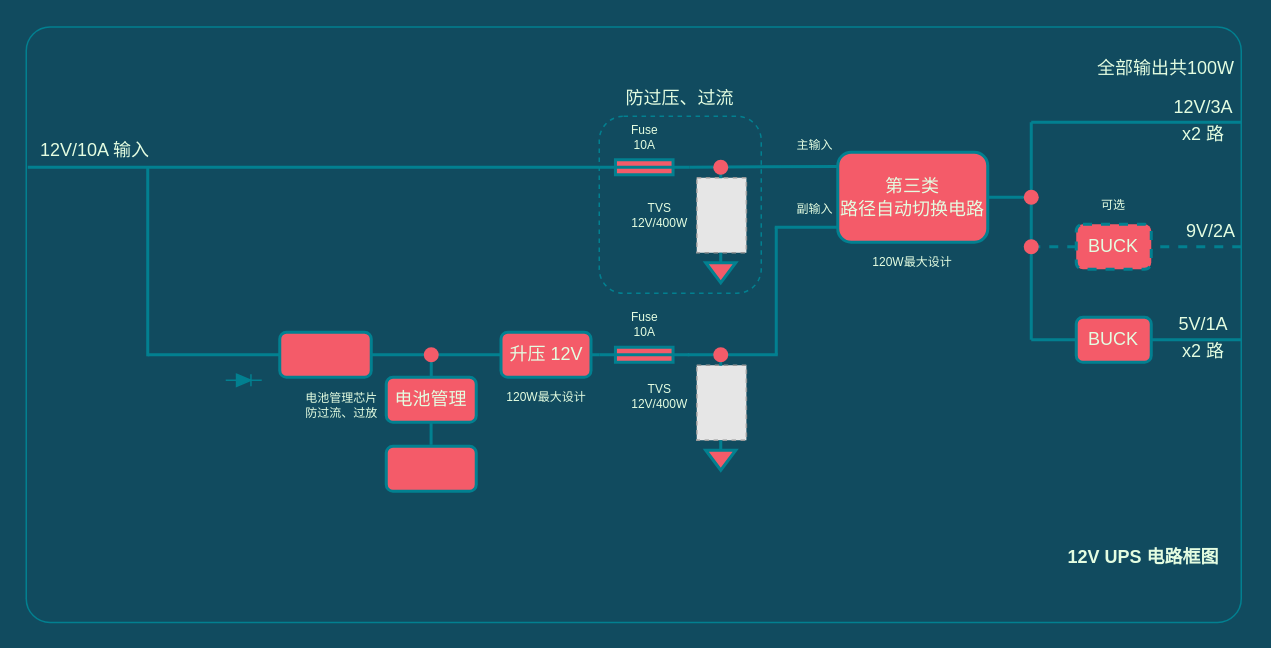
The diagram is 1271 pixels wide and 648 high, and some of its shapes have lost their labels. Grey dashed boxes stand in for pictures. The box of each missing label's shape, as (x1, y1, x2, y2) in pixels:
充电电路: (278, 330, 372, 378)
电池组: (384, 444, 477, 492)
